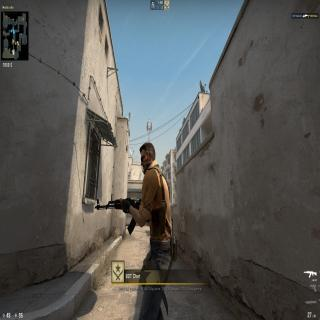T-Head: (139, 139, 156, 175)
